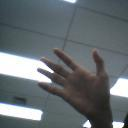hand: (36, 47, 110, 116)
